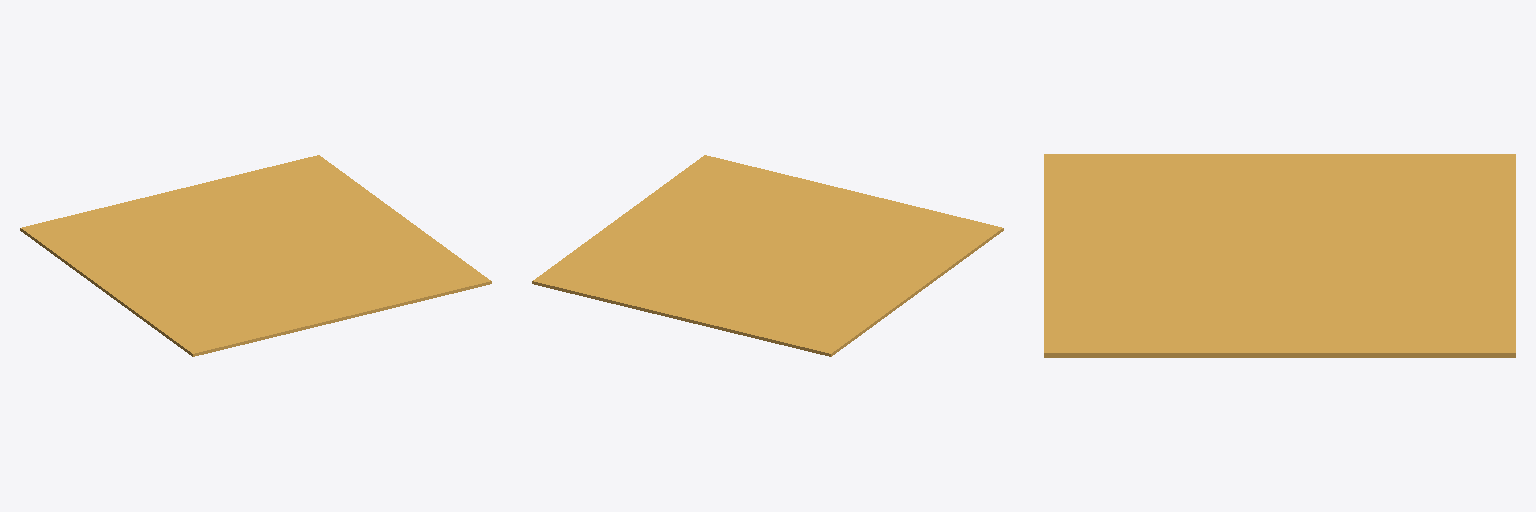
The robot description file, URDF, robot "CartPole":
<?xml version="1.0"?>

<robot xmlns="http://drake.mit.edu"
 xmlns:xsi="http://www.w3.org/2001/XMLSchema-instance"
 name="CartPole">

  <link name="world">
    <visual>
      <origin xyz="0 0 -5" rpy="0 0 0" />
      <geometry>
        <box size="1000 1000 10" />
      </geometry>
      <material>
        <color rgba="0.93 .74 .4 1" />
      </material>
    </visual>
  </link>

  <link name="cart">
    <inertial>
      <origin xyz="0 0 .25" rpy="0 0 0" />
      <mass value="10" />
      <inertia ixx="0" ixy="0" ixz="0" iyy="0" iyz="0" izz="0" />
    </inertial>
    <visual>
      <origin xyz="0 0 .25" rpy="0 0 0" />
      <geometry>
        <box size=".6 .3 .3" />
      </geometry>
      <material>
        <color rgba="0 1 0 1" />
      </material>
    </visual>
    <visual>
      <origin xyz=".15 0 .025" rpy="0 0 0" />
      <geometry>
        <sphere radius=".05" />
      </geometry>
      <material>
        <color rgba="0 0 0 1" />
      </material>
    </visual>
    <visual>
      <origin xyz="-.15 0 .025" rpy="0 0 0" />
      <geometry>
        <sphere radius=".05" />
      </geometry>
      <material>
        <color rgba="0 0 0 1" />
      </material>
    </visual>
  </link>

  <link name="pole">
    <inertial>
      <origin xyz="0 0 -.5" rpy="0 0 0" />
      <mass value="1" />
      <inertia ixx="0" ixy="0" ixz="0" iyy="0" iyz="0" izz="0" />
    </inertial>
    <visual>
      <origin xyz="0 0 -.25" rpy="0 0 0" />
      <geometry>
         <cylinder length=".5" radius=".01" />
      </geometry>
      <material>
        <color rgba="1 0 0 1" />
      </material>
    </visual>
    <visual>
      <origin xyz="0 0 -.5" rpy="0 0 0" />
      <geometry>
         <sphere radius=".05" />
      </geometry>
      <material>
        <color rgba="0 0 1 1" />
      </material>
    </visual>
  </link>
  
  <joint name="x" type="prismatic">
    <parent link="world" />
    <child link="cart" />
    <origin xyz="0 0 0" />
    <axis xyz="1 0 0" />
    <dynamics damping="0.1" />
  </joint>

  <joint name="theta" type="continuous">
    <parent link="cart" />
    <child link="pole" />
    <origin xyz="0 0 .25" />
    <axis xyz="0 -1 0" />
    <dynamics damping="0.1" />
  </joint>

  <transmission type="SimpleTransmission" name="cart_force">
    <actuator name="force" />
    <joint name="x" />
    <mechanicalReduction>1</mechanicalReduction>
  </transmission>
</robot>

--- What the picture shows (computed from the rendered views, not written in the file) ---
Views: 3 orthographic renders of the robot side by side, from view 1: azimuth 30°, elevation 25°; view 2: azimuth 150°, elevation 25°; view 3: azimuth 270°, elevation 25°.
Robot: CartPole — 3 links, 2 joints (1 continuous, 1 prismatic); root link world; default pose: every joint at zero.
Visible links, largest first — view 1: world; view 2: world; view 3: world.
Link boxes in pixels (left/top/right/bottom): world: left=20, top=155, right=491, bottom=356; world: left=532, top=155, right=1003, bottom=356; world: left=1044, top=154, right=1515, bottom=357.
Bounding box of the posed robot: 1000 × 1000 × 10.4 m (x, y, z).
Geometry: primitives only (box / cylinder / sphere), no mesh files.